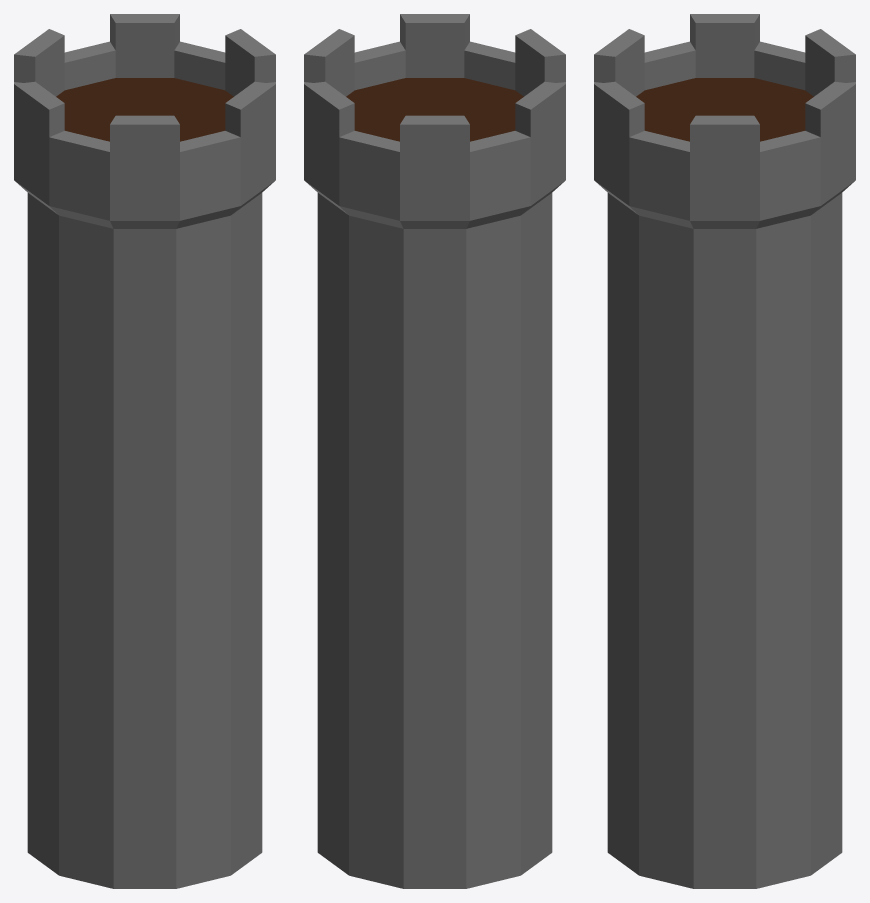
File: Башня_с_окном.FBX
3 views of the same model, side by side, from view 1: azimuth 30°, elevation 25°; view 2: azimuth 150°, elevation 25°; view 3: azimuth 270°, elevation 25° (orthographic).
Visible parts, largest first — view 1: Cylinder001; view 2: Cylinder001; view 3: Cylinder001.
Boxes of the visible parts, x1,y1,x2,y2 form: Cylinder001: (14, 14, 275, 888); Cylinder001: (304, 14, 565, 888); Cylinder001: (594, 14, 855, 888).
Bounding box in the file's own units: 86.25 × 280 × 86.25.
